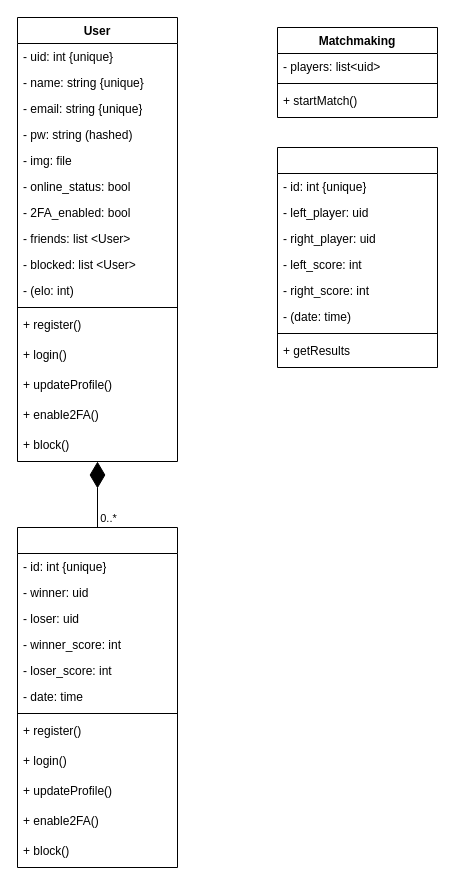
Some shapes in this 455 by 888 pixel diagram are drawn without their labels. Each missing label, with the box of its shape:
Match: (276, 146, 438, 368)
MatchRecord: (16, 526, 178, 868)
